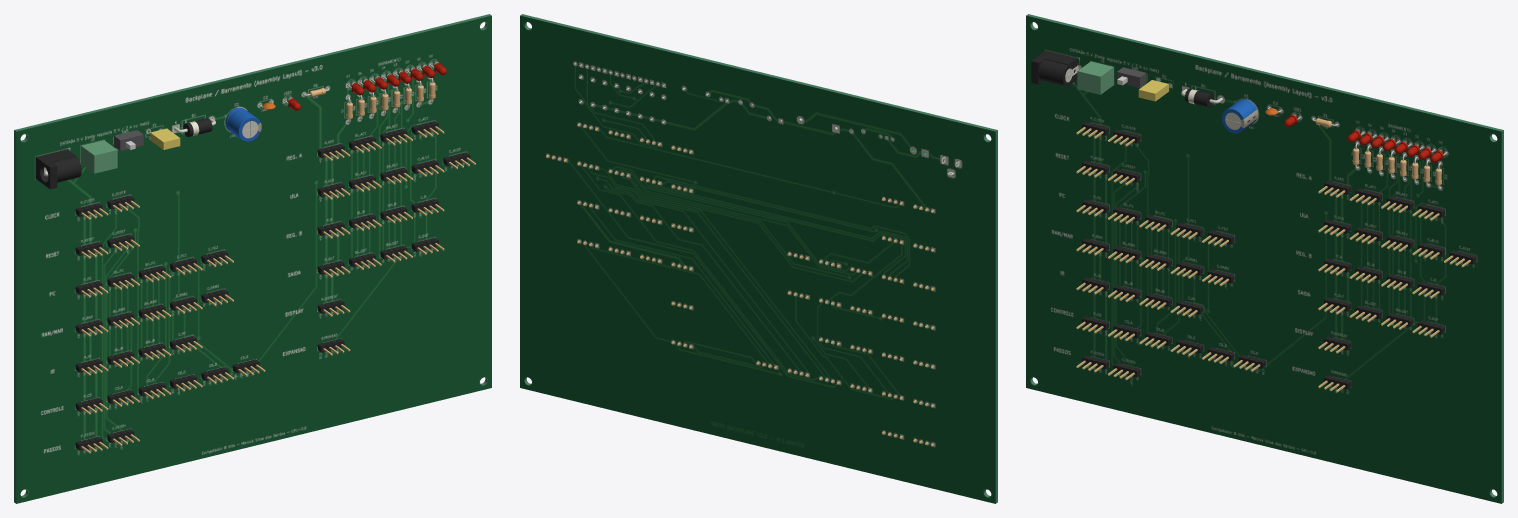
File: backplane-barramento.glb
3 views of the same model, side by side, from view 1: azimuth 30°, elevation 25°; view 2: azimuth 150°, elevation 25°; view 3: azimuth 330°, elevation 25° (orthographic).
Visible parts, largest first — view 1: superficie_topo, =>[0:1:1:16], =>[0:1:1:11]_479ea4, modelo_proprio_0, =>[0:1:1:13]_1d8f49; view 2: superficie_fundo, =>[0:1:1:16]; view 3: superficie_topo, =>[0:1:1:16], =>[0:1:1:11]_479ea4, modelo_proprio_0, =>[0:1:1:13]_1d8f49.
Part boxes in pixels (x1=…): superficie_topo: x1=16, y1=15, x2=491, y2=503; =>[0:1:1:16]: x1=14, y1=14, x2=491, y2=503; =>[0:1:1:11]_479ea4: x1=35, y1=149, x2=81, y2=189; modelo_proprio_0: x1=81, y1=140, x2=117, y2=173; =>[0:1:1:13]_1d8f49: x1=225, y1=107, x2=260, y2=141; superficie_fundo: x1=520, y1=15, x2=995, y2=503; =>[0:1:1:16]: x1=520, y1=14, x2=997, y2=503; superficie_topo: x1=1026, y1=15, x2=1501, y2=503; =>[0:1:1:16]: x1=1026, y1=14, x2=1503, y2=503; =>[0:1:1:11]_479ea4: x1=1031, y1=50, x2=1077, y2=86; modelo_proprio_0: x1=1077, y1=61, x2=1113, y2=94; =>[0:1:1:13]_1d8f49: x1=1221, y1=99, x2=1256, y2=133.
Size of the model in its own units: 0.2045 by 0.153 by 0.0168.
11 materials, 2 textured.
